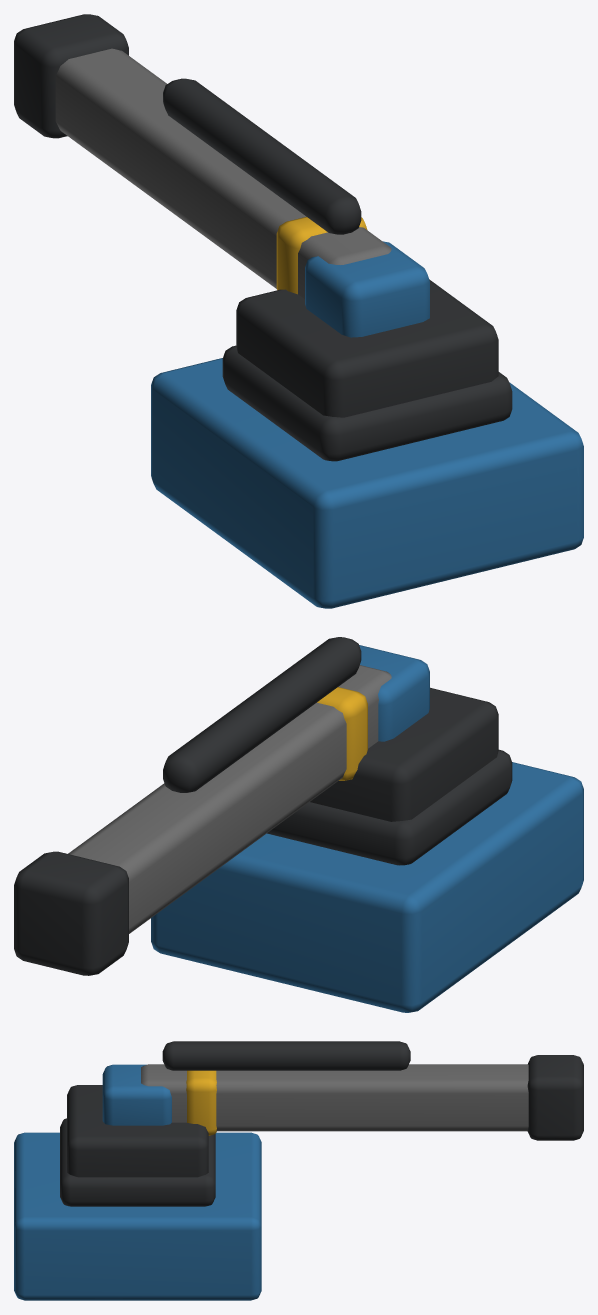
The model's file is reclaimer-arm.glb.
3 views of the same model, one above another, from view 1: azimuth 30°, elevation 25°; view 2: azimuth 150°, elevation 25°; view 3: azimuth 270°, elevation 25° (orthographic). The views are drawn at different scales.
Visible parts, largest first — view 1: reclaimer-arm, joint_boom, joint_yaw; view 2: reclaimer-arm, joint_boom, joint_yaw; view 3: reclaimer-arm, joint_boom, joint_yaw.
Boxes of the visible parts, left/top/right/bottom form: reclaimer-arm: left=151, top=345, right=583, bottom=608; joint_boom: left=14, top=14, right=391, bottom=298; joint_yaw: left=236, top=241, right=498, bottom=417; reclaimer-arm: left=151, top=749, right=583, bottom=1012; joint_boom: left=14, top=637, right=391, bottom=975; joint_yaw: left=310, top=645, right=498, bottom=821; reclaimer-arm: left=14, top=1118, right=261, bottom=1300; joint_boom: left=141, top=1041, right=583, bottom=1140; joint_yaw: left=67, top=1064, right=208, bottom=1177.
Size of the model in its own units: 0.62 by 0.67 by 1.61.
